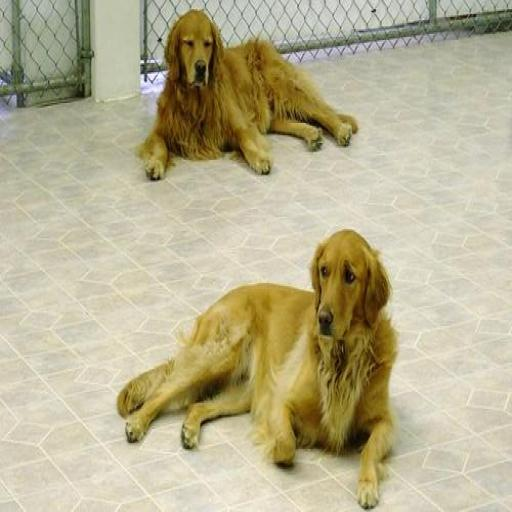dog_face: (304, 225, 394, 342), (158, 10, 224, 88)
